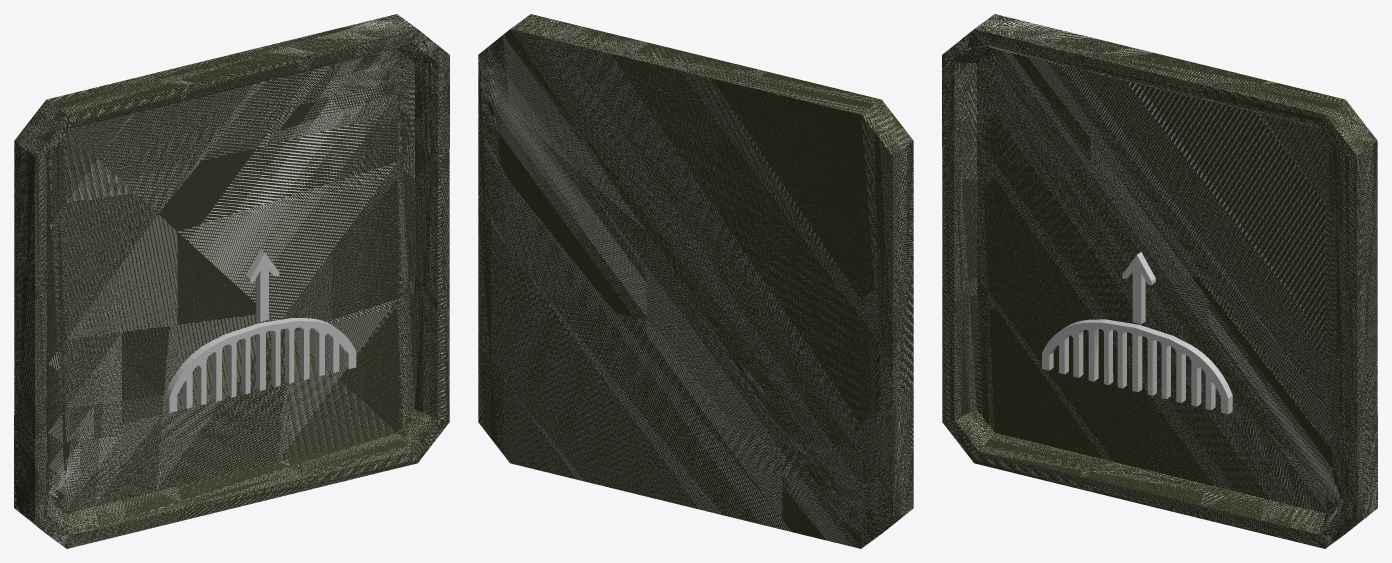
Rendered from CM_-_Ambush.obj.
3 renders of one model, left to right at view 1: azimuth 30°, elevation 25°; view 2: azimuth 150°, elevation 25°; view 3: azimuth 330°, elevation 25°, orthographic.
Parts seen in each view (by area): view 1: Button.001_ID13, Button_ID3, SM_CM_-_Ambush_mesh.017; view 2: Button_ID3; view 3: Button.001_ID13, Button_ID3, SM_CM_-_Ambush_mesh.017.
Part boxes in pixels (box(x1,y1,x2,y2)): Button.001_ID13: box(47, 43, 437, 534); Button_ID3: box(14, 14, 449, 548); SM_CM_-_Ambush_mesh.017: box(165, 249, 356, 412); Button_ID3: box(478, 14, 913, 548); Button.001_ID13: box(954, 43, 1344, 534); Button_ID3: box(942, 14, 1377, 548); SM_CM_-_Ambush_mesh.017: box(1042, 252, 1232, 414).
Bounding box in the file's own units: 1 × 1 × 0.1599.
